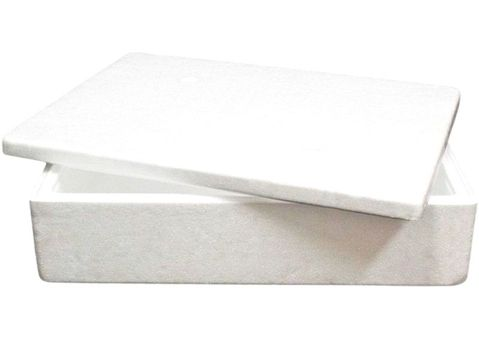泡沫箱: (2, 54, 476, 285)
